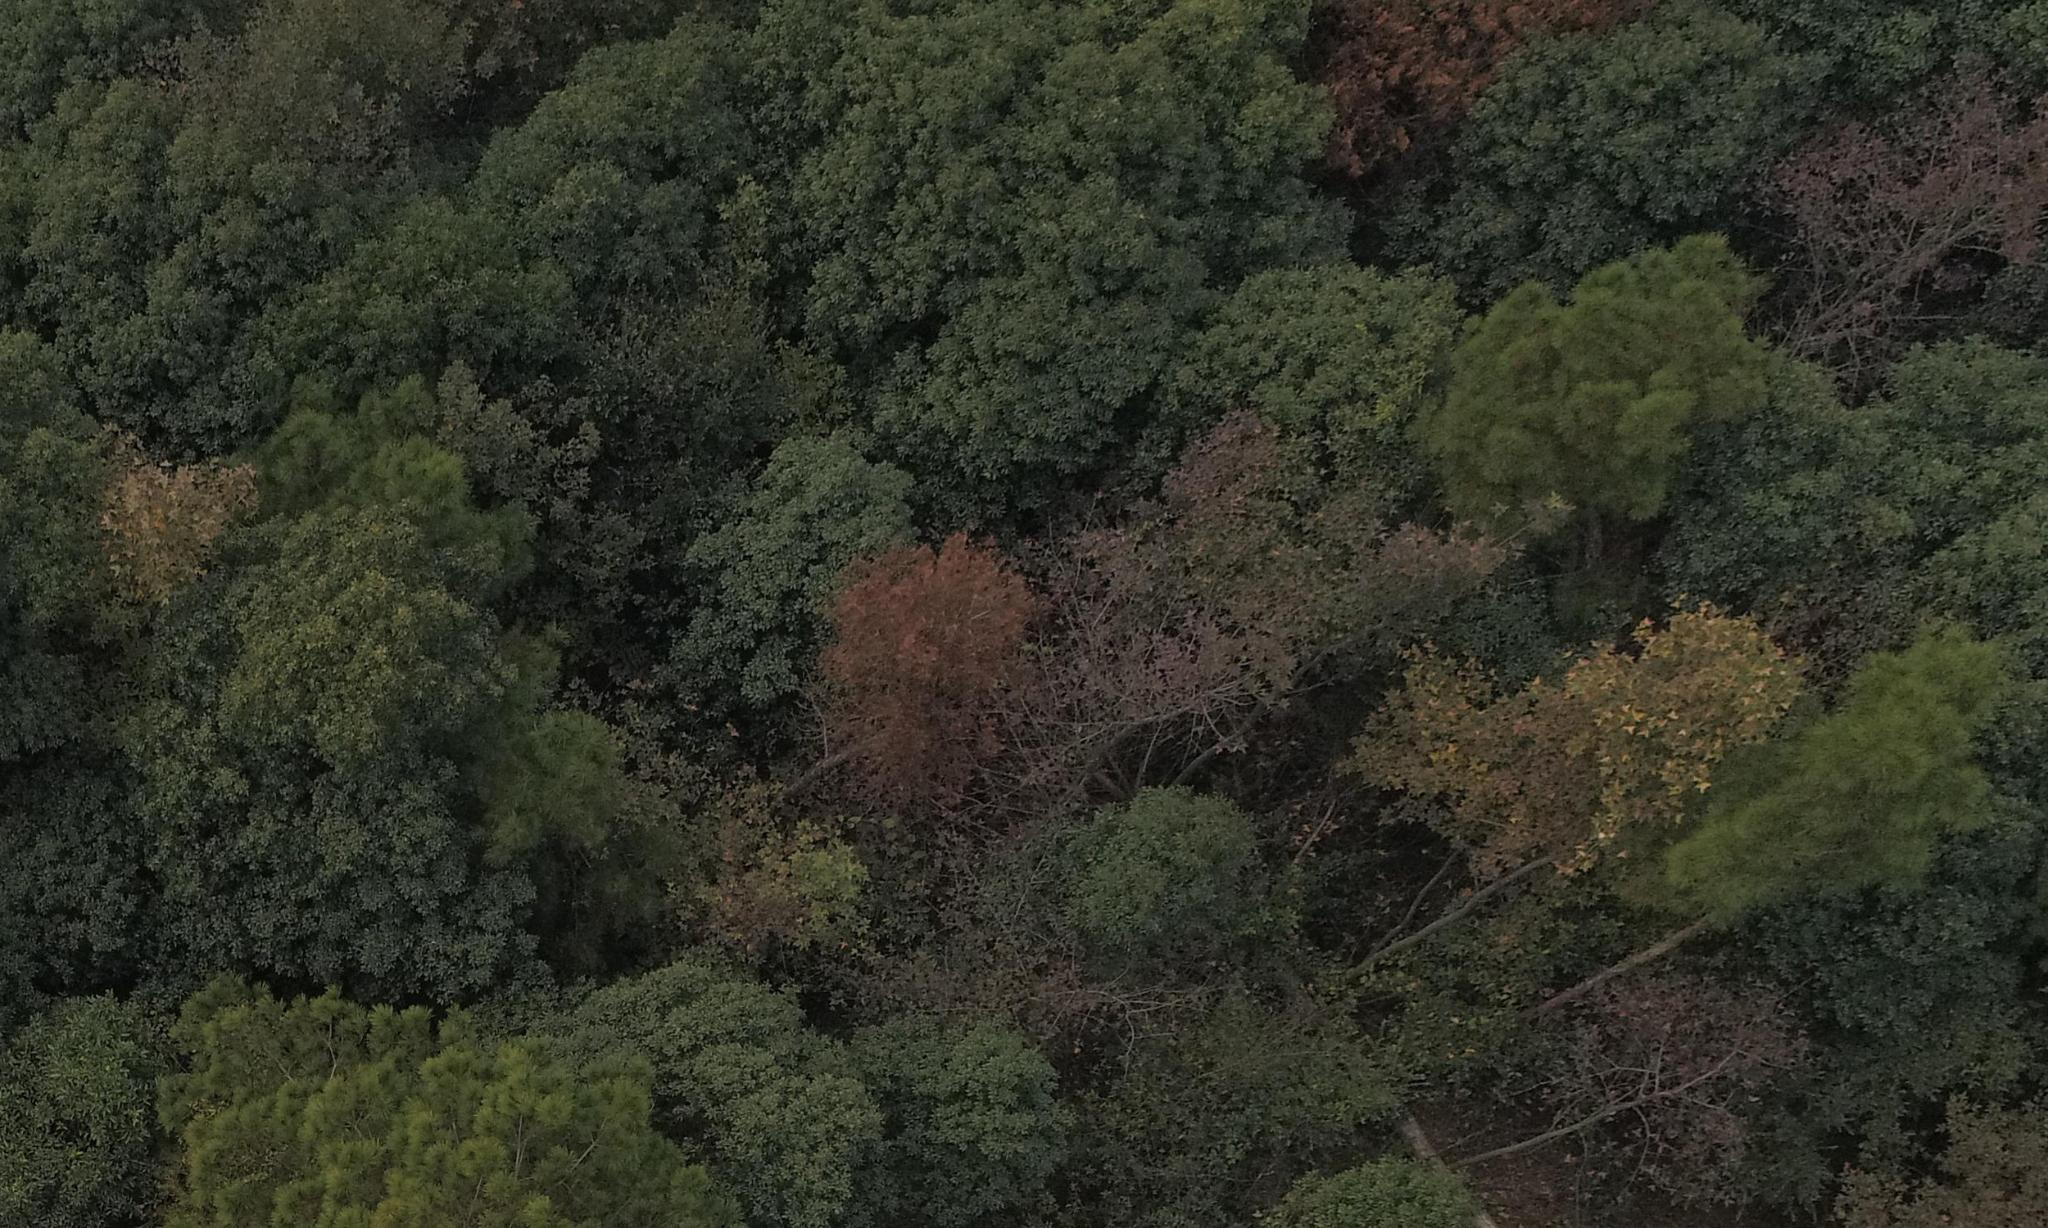heavy: (779, 519, 1041, 838), (1323, 10, 1604, 175)
